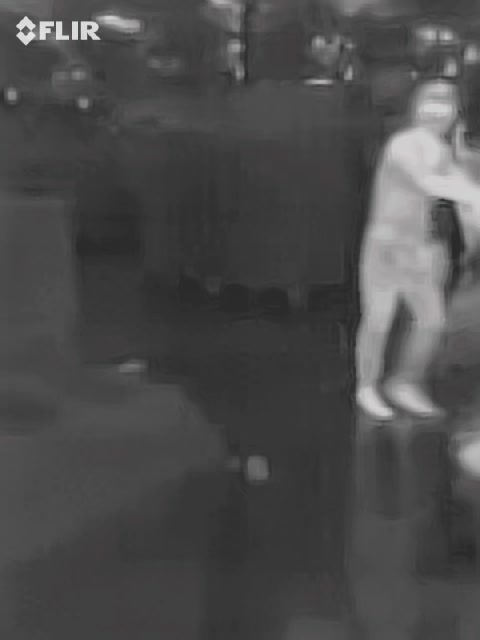head: (410, 78, 458, 136)
